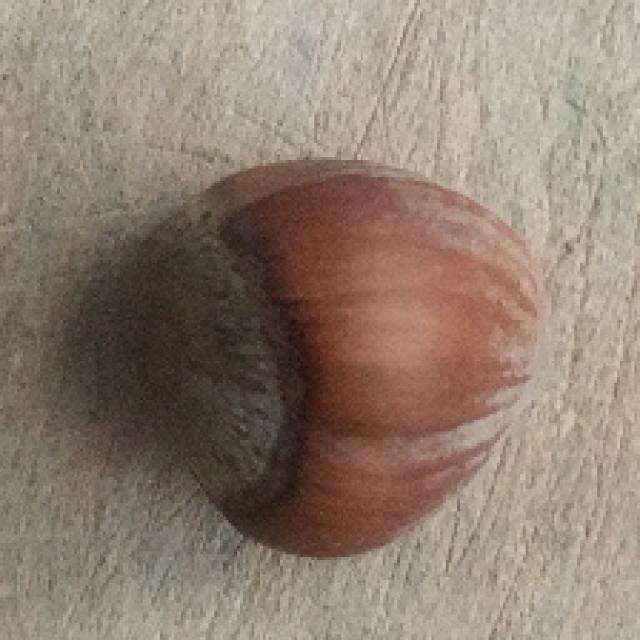qualityHazelnut: (133, 153, 548, 559)
